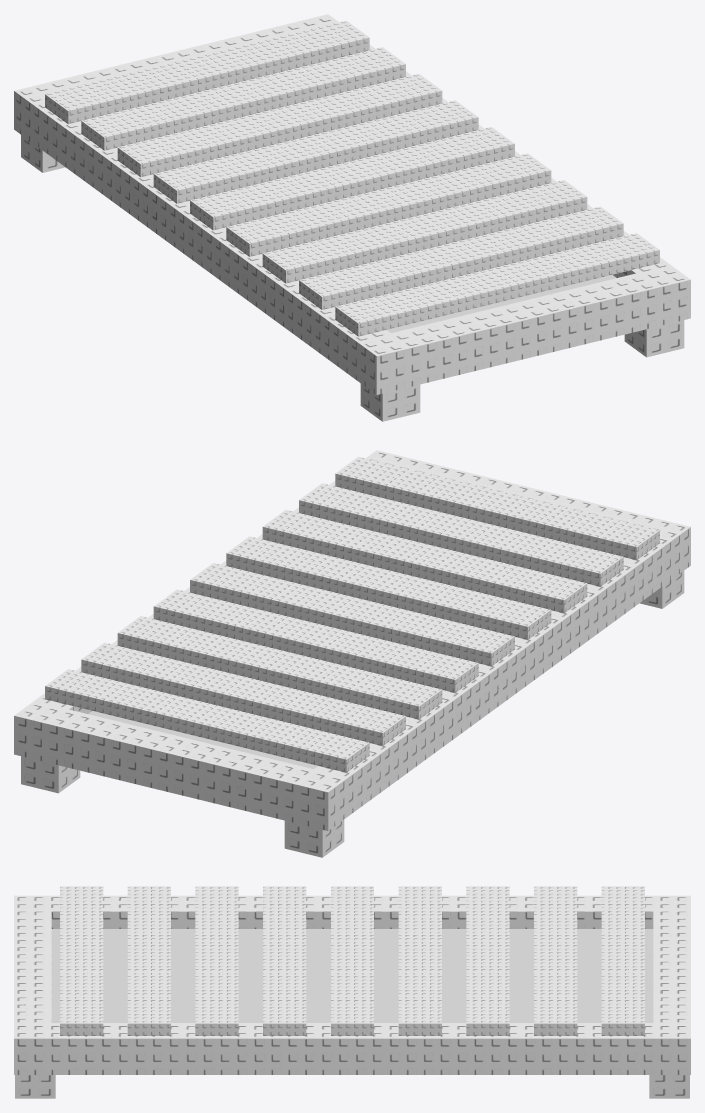
The model's file is SM_CookPlatform.fbx.
3 views of the same model, one above another, from view 1: azimuth 30°, elevation 25°; view 2: azimuth 150°, elevation 25°; view 3: azimuth 270°, elevation 25° (orthographic). The views are drawn at different scales.
Parts seen in each view (by area): view 1: Cube.002; view 2: Cube.002; view 3: Cube.002.
Part boxes in pixels (x1=…): Cube.002: x1=14, y1=14, x2=690, y2=421; Cube.002: x1=14, y1=450, x2=690, y2=857; Cube.002: x1=14, y1=886, x2=690, y2=1098.
Size of the model in its own units: 500 by 123 by 1000.
